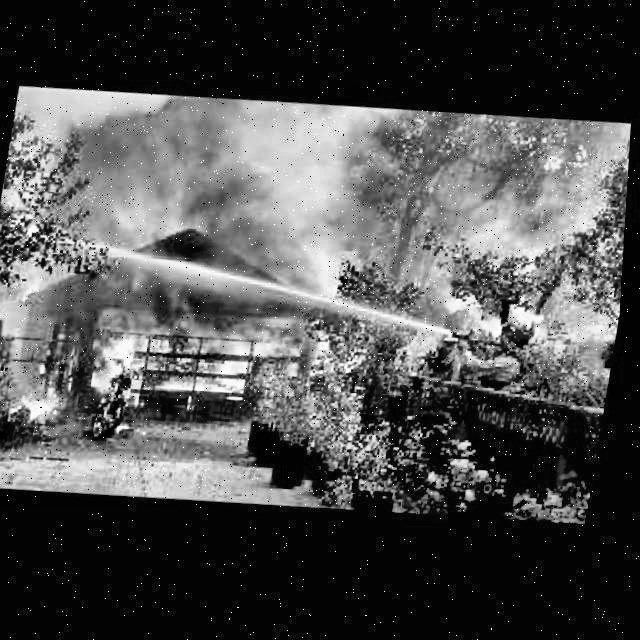Fire: (23, 248, 342, 459)
Smoke: (51, 68, 380, 306)
